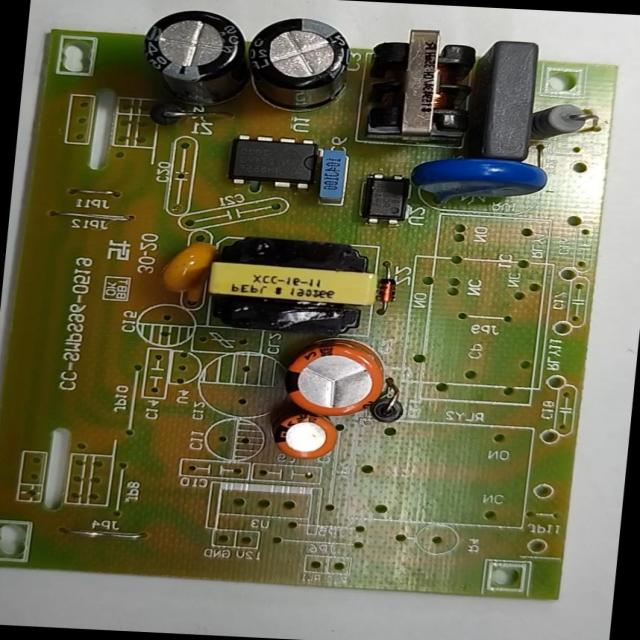Cap1: (268, 339, 398, 426)
Cap2: (258, 400, 352, 472)
Cap3: (232, 7, 360, 120)
Cap4: (136, 2, 255, 118)
MOSFET: (214, 127, 324, 197)
Mov: (390, 147, 557, 210)
Resistor: (522, 96, 604, 150)
Transformer: (200, 232, 384, 345), (350, 25, 492, 156)
